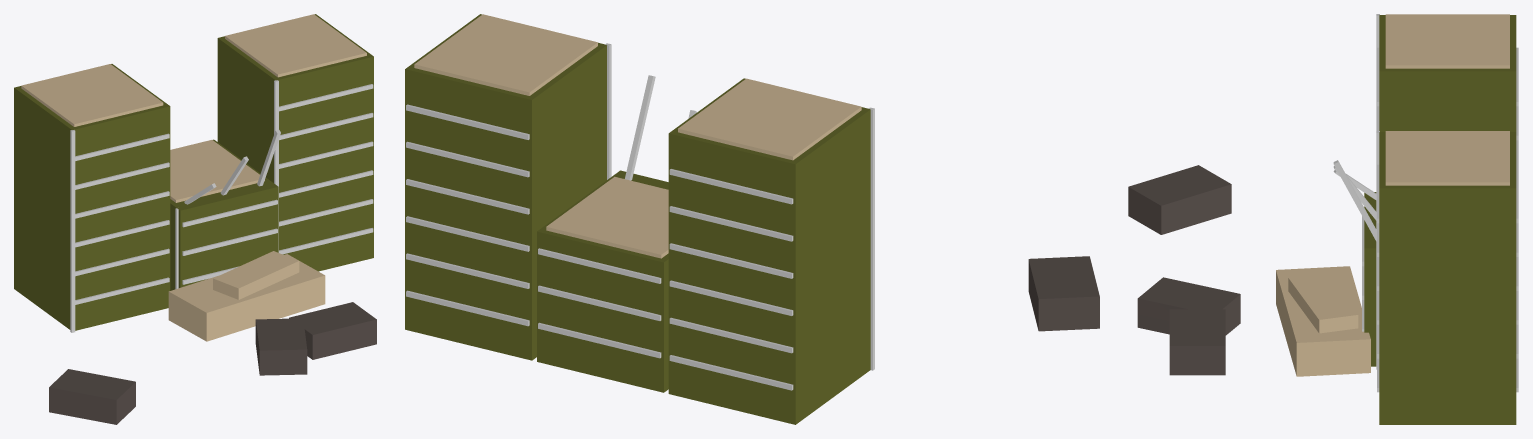
The model's file is SM_HescoCorto3_v1_Geotextil_e1_Danado_LOD0.fbx.
3 views of the same model, side by side, from view 1: azimuth 30°, elevation 25°; view 2: azimuth 150°, elevation 25°; view 3: azimuth 270°, elevation 25° (orthographic). The views are drawn at different scales.
Parts seen in each view (by area): view 1: SM_hesco_piezas_v85_LOD0; view 2: SM_hesco_piezas_v85_LOD0; view 3: SM_hesco_piezas_v85_LOD0.
Boxes of the visible parts, <box> form: SM_hesco_piezas_v85_LOD0: <box>14,14,376,424</box>; SM_hesco_piezas_v85_LOD0: <box>405,14,1099,424</box>; SM_hesco_piezas_v85_LOD0: <box>1128,14,1518,424</box>.
Size of the model in its own units: 4.39 by 2.13 by 3.14.
